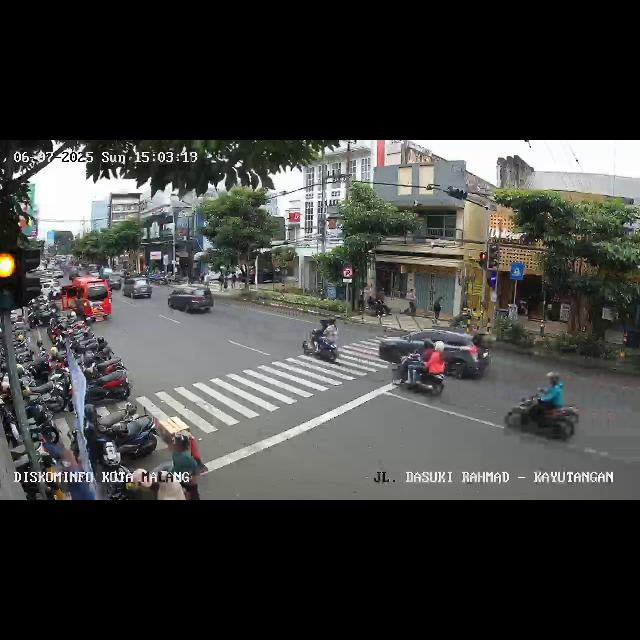car: (380, 326, 490, 384), (58, 278, 110, 322), (166, 284, 214, 318), (122, 278, 154, 302)
motorcycle: (506, 377, 582, 447), (389, 336, 446, 398), (302, 317, 342, 365)
person: (170, 433, 204, 499)
